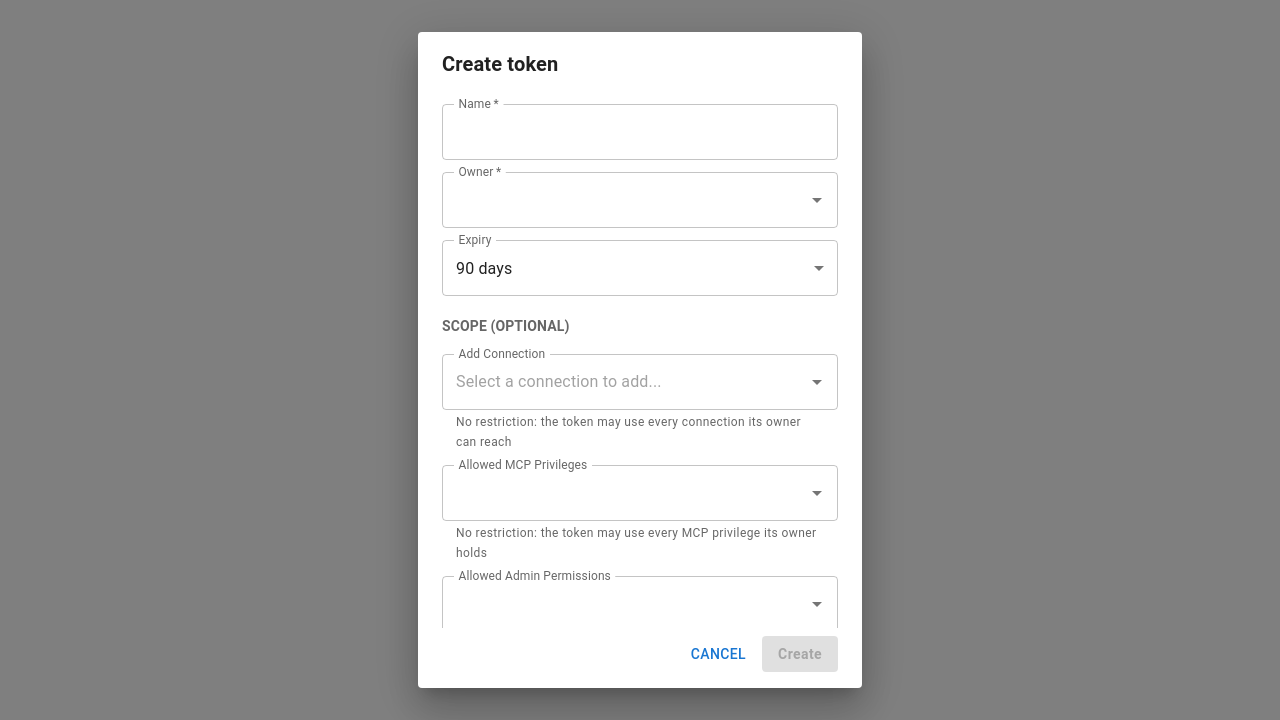
it: CreateTokenDialog › shows expiry options
Press the mouse on the dropdown named "Expiry" at x=484, y=268, box x1=456 y1=258 x2=512 y2=278
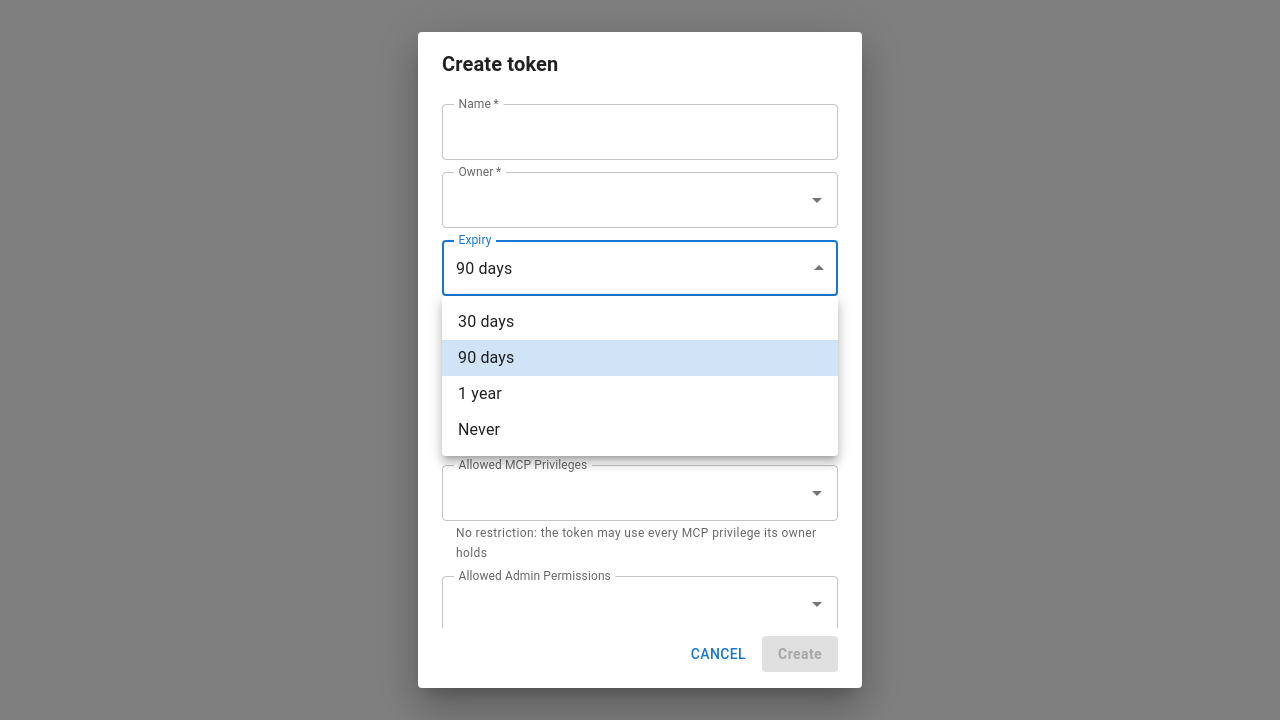
Expected: the option "30 days" is shown, x1=458 y1=312 x2=514 y2=331
Expected: the option "90 days" is shown, x1=442 y1=340 x2=838 y2=376
Expected: the option "1 year" is shown, x1=458 y1=384 x2=502 y2=403
